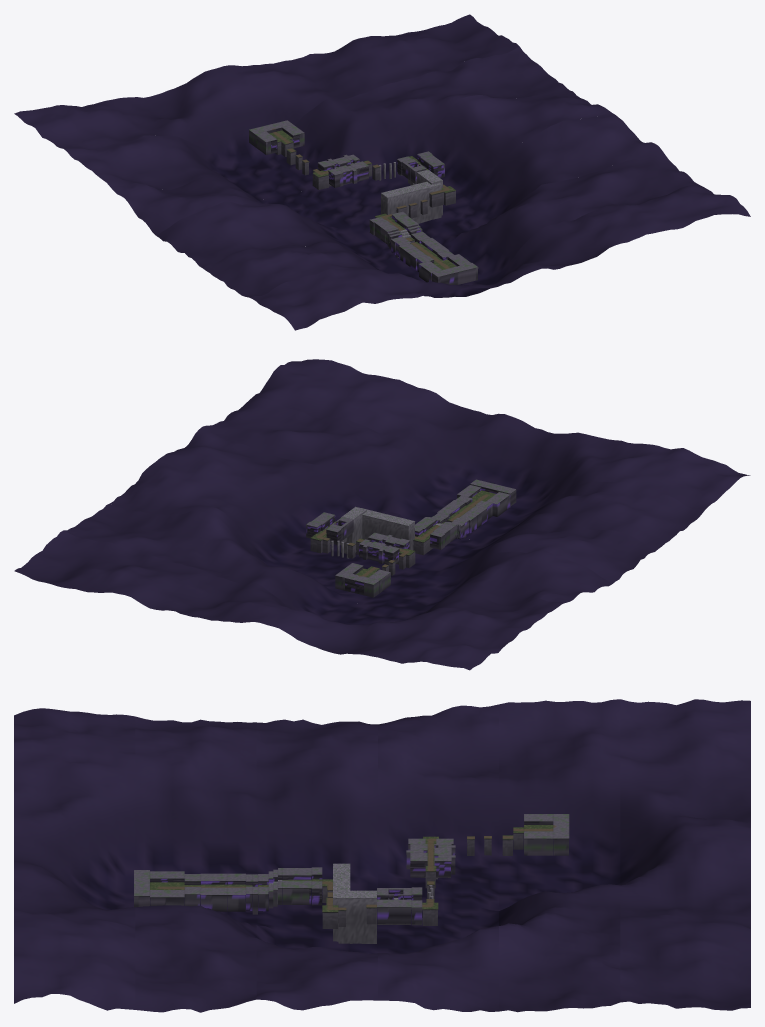
File: mansion_rooftops_terrain.glb
The picture shows the model from 3 angles, top to bottom: view 1: azimuth 30°, elevation 25°; view 2: azimuth 150°, elevation 25°; view 3: azimuth 270°, elevation 25°; orthographic projection. The views are drawn at different scales.
Visible parts, largest first — view 1: backdrop_5, backdrop_4, backdrop_2, backdrop_3, backdrop_1, backdrop_0, terrain_D, terrain_B, terrain_A, terrain_J, terrain_H, terrain_C (+3 smaller); view 2: backdrop_0, backdrop_1, backdrop_5, backdrop_3, backdrop_2, backdrop_4, terrain_D, terrain_B, terrain_J, terrain_A, terrain_H, terrain_F (+3 smaller); view 3: backdrop_5, backdrop_4, backdrop_0, backdrop_3, backdrop_1, backdrop_2, terrain_B, terrain_E, terrain_C, terrain_J, terrain_A, terrain_H (+4 smaller).
Part boxes in pixels (left/top/right/bottom): backdrop_5: left=14, top=14, right=519, bottom=155; backdrop_4: left=64, top=46, right=565, bottom=199; backdrop_2: left=156, top=113, right=657, bottom=267; backdrop_3: left=110, top=87, right=611, bottom=235; backdrop_1: left=203, top=146, right=704, bottom=297; backdrop_0: left=249, top=185, right=750, bottom=330; terrain_D: left=375, top=181, right=443, bottom=223; terrain_B: left=391, top=231, right=453, bottom=271; terrain_A: left=418, top=254, right=478, bottom=284; terrain_J: left=249, top=120, right=304, bottom=154; terrain_H: left=317, top=154, right=368, bottom=187; terrain_C: left=369, top=211, right=422, bottom=249; backdrop_0: left=249, top=359, right=750, bottom=510; backdrop_1: left=203, top=398, right=704, bottom=548; backdrop_5: left=14, top=530, right=519, bottom=670; backdrop_3: left=110, top=461, right=611, bottom=615; backdrop_2: left=156, top=426, right=657, bottom=583; backdrop_4: left=64, top=503, right=565, bottom=633; terrain_D: left=361, top=508, right=429, bottom=555; terrain_B: left=431, top=495, right=492, bottom=539; terrain_J: left=335, top=563, right=390, bottom=597; terrain_A: left=457, top=479, right=516, bottom=516; terrain_H: left=359, top=532, right=410, bottom=564; terrain_F: left=306, top=512, right=353, bottom=545; backdrop_5: left=620, top=699, right=750, bottom=1010; backdrop_4: left=499, top=699, right=620, bottom=1012; backdrop_0: left=14, top=708, right=135, bottom=1010; backdrop_3: left=378, top=704, right=498, bottom=1011; backdrop_1: left=135, top=716, right=256, bottom=1012; backdrop_2: left=256, top=719, right=377, bottom=1010; terrain_B: left=184, top=873, right=268, bottom=914; terrain_E: left=322, top=890, right=376, bottom=943; terrain_C: left=268, top=867, right=322, bottom=908; terrain_J: left=524, top=814, right=569, bottom=855; terrain_A: left=134, top=870, right=184, bottom=907; terrain_H: left=406, top=838, right=455, bottom=879.
Size of the model in its own units: 518 by 73.42 by 553.
